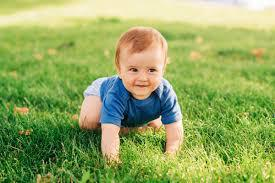child: (68, 23, 191, 168)
